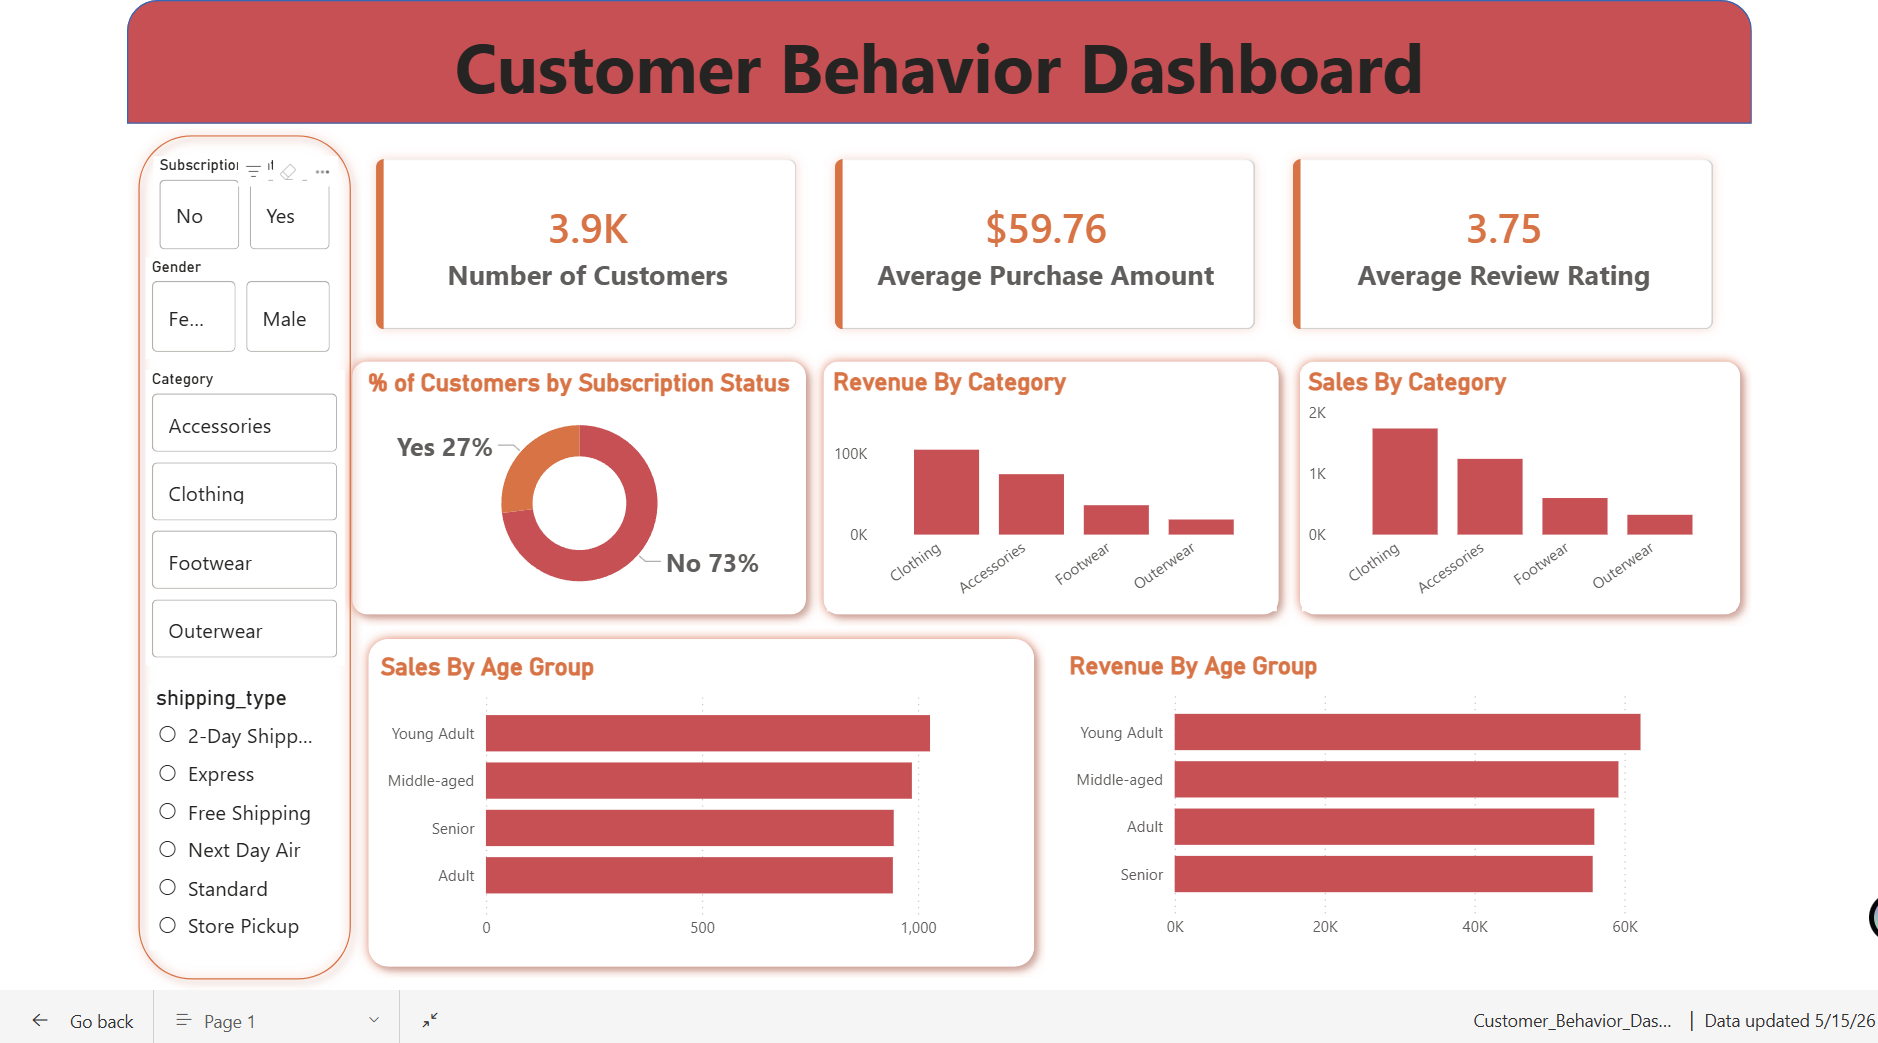

What the dashboard file says about the page in this screenshot:
{"tool":"powerbi","page":{"name":"Page 1","canvas":[1280,780],"ordinal":0},"visuals":[{"type":"cardVisual","fields":{"Data":["public customer.Number of Customers","public customer.Average Purchase Amount","public customer.Average Review Rating"]},"box":[168.6,97.7,1111.6,190.7],"z":0},{"type":"shape","box":[0,0,1280.3,97.4],"z":1000},{"type":"textbox","box":[0,11,1280.3,86.4],"z":2000},{"type":"shape","box":[168.6,275.6,375.6,217.4],"z":3000},{"type":"donutChart","title":"% of  Customers by Subscription Status","fields":{"Category":["public customer.subscription_status"],"Y":["CountNonNull(public customer.customer_id)"]},"box":[184.9,290.7,343,190.7],"z":4000},{"type":"shape","box":[539.5,275.6,376.7,217.4],"z":5000},{"type":"shape","box":[915.1,275.6,365.1,217.4],"z":6000},{"type":"clusteredColumnChart","title":"Revenue By Category","fields":{"Y":["Sum(public customer.purchase_amount)"],"Category":["public customer.category"]},"box":[551.2,289.5,354.7,191.9],"z":7000},{"type":"clusteredColumnChart","title":"Sales By Category","fields":{"Y":["CountNonNull(public customer.customer_id)"],"Category":["public customer.category"]},"box":[925.6,289.5,341.9,191.9],"z":8000},{"type":"shape","box":[0,97.1,185.4,683.2],"z":9000},{"type":"advancedSlicerVisual","fields":{"Values":["public customer.subscription_status"]},"box":[20.9,123.3,145.3,79.1],"z":10000},{"type":"advancedSlicerVisual","fields":{"Values":["public customer.gender"]},"box":[14.9,202.8,150.6,79.6],"z":11000},{"type":"advancedSlicerVisual","fields":{"Values":["public customer.category"]},"box":[14.9,291.2,156.8,232.7],"z":12000},{"type":"listSlicer","fields":{"Values":["public customer.shipping_type"]},"box":[17.4,540.1,149.3,209.1],"z":13000},{"type":"clusteredBarChart","title":"Revenue By Age Group","fields":{"Y":["Sum(public customer.purchase_amount)"],"Category":["public customer.age_group"]},"box":[737.9,512.7,516.4,235.2],"z":14000},{"type":"shape","box":[181.7,494,542.6,276.3],"z":15000},{"type":"clusteredBarChart","title":"Sales By Age Group","fields":{"Y":["CountNonNull(public customer.customer_id)"],"Category":["public customer.age_group"]},"box":[195.4,513.9,516.4,235.2],"z":17000}]}

Visuals, with their boxes in screenshot pixels (x1, y1, x2, y2):
cardVisual - public customer.Number of Customers x public customer.Average Purchase Amount: region(346, 119, 1758, 361)
shape: region(132, 0, 1758, 119)
textbox: region(132, 9, 1758, 119)
shape: region(346, 345, 823, 621)
"% of  Customers by Subscription Status" donutChart: region(367, 364, 803, 607)
shape: region(817, 345, 1296, 621)
shape: region(1295, 345, 1758, 621)
"Revenue By Category" clusteredColumnChart: region(832, 363, 1283, 607)
"Sales By Category" clusteredColumnChart: region(1308, 363, 1742, 607)
shape: region(132, 118, 368, 986)
advancedSlicerVisual - public customer.subscription_status: region(159, 152, 343, 252)
advancedSlicerVisual - public customer.gender: region(151, 253, 342, 354)
advancedSlicerVisual - public customer.category: region(151, 365, 350, 661)
listSlicer - public customer.shipping_type: region(154, 681, 344, 947)
"Revenue By Age Group" clusteredBarChart: region(1069, 646, 1725, 945)
shape: region(363, 623, 1052, 974)
"Sales By Age Group" clusteredBarChart: region(380, 648, 1036, 947)
